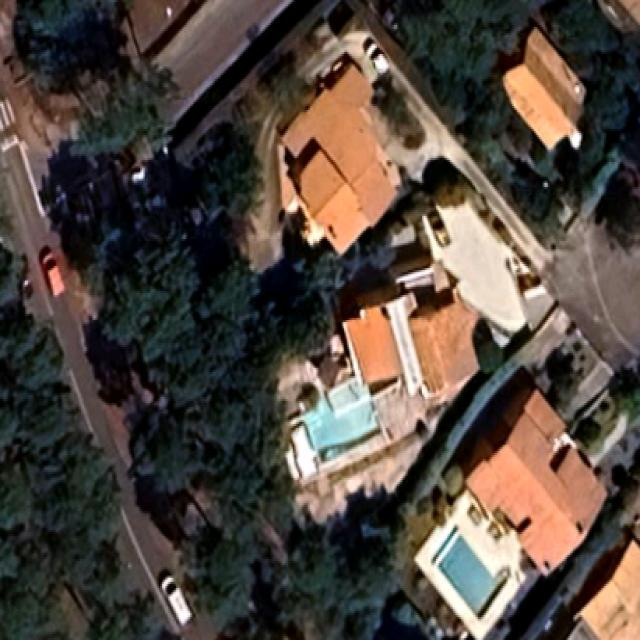maison: (231, 53, 442, 264), (446, 391, 625, 583), (335, 267, 501, 421), (484, 26, 610, 161), (581, 542, 638, 638)
